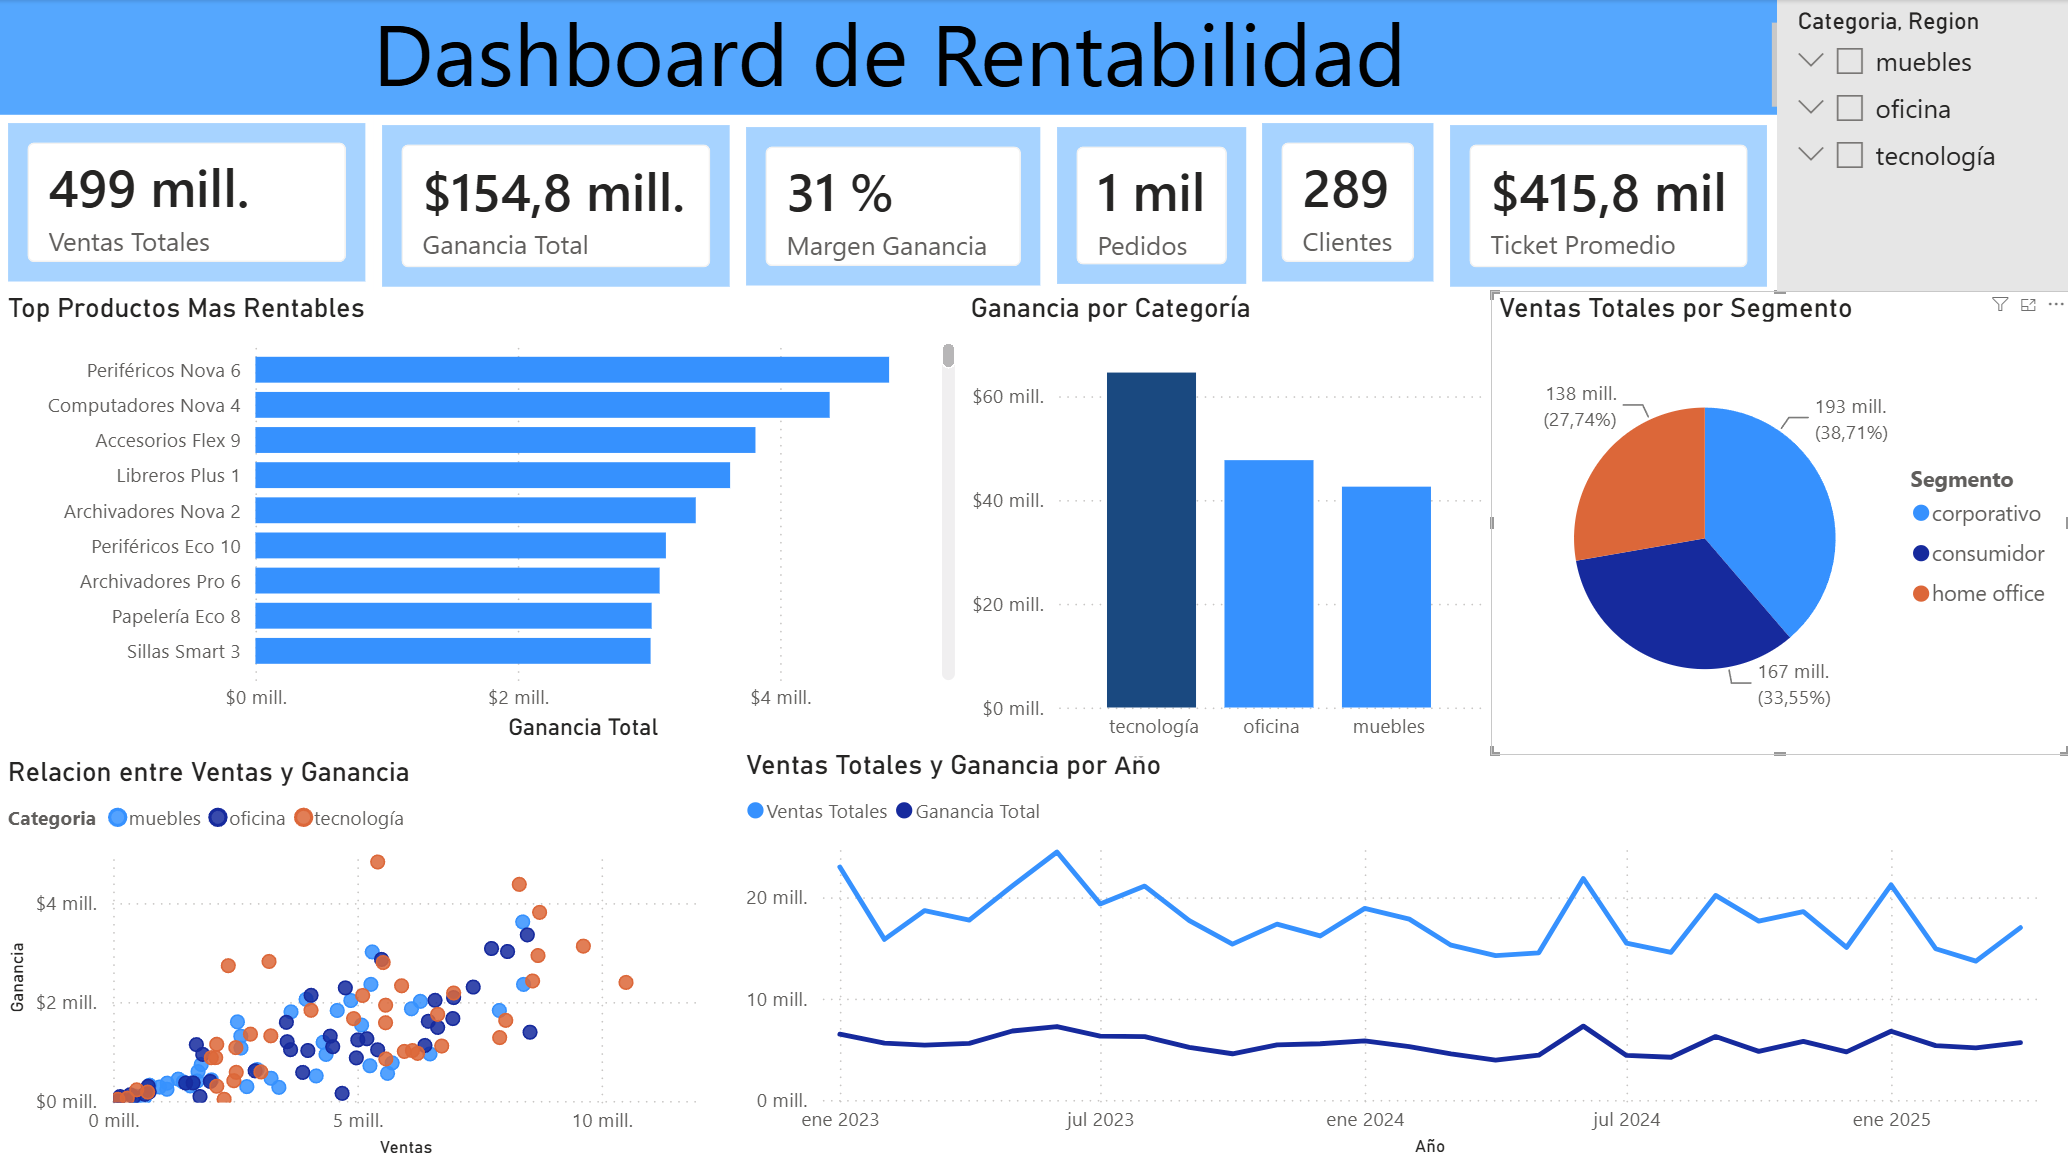

The page's visual inventory and layout, read from the dashboard file:
{"tool":"powerbi","page":{"name":"Página 1","canvas":[1280,720],"ordinal":0},"visuals":[{"type":"textbox","box":[0,0,1108.7,71],"z":0},{"type":"cardVisual","fields":{"Data":["DataSet_Limpio.VentasTotales"]},"box":[0,71,231.3,108.9],"z":1000},{"type":"cardVisual","fields":{"Data":["DataSet_Limpio.GananciaTotal"]},"box":[231.3,72.2,225.2,110.1],"z":2000},{"type":"cardVisual","fields":{"Data":["DataSet_Limpio.MargenPromedio"]},"box":[456.4,73.4,192.1,108.9],"z":3000},{"type":"cardVisual","fields":{"Data":["DataSet_Limpio.Pedidos"]},"box":[648.6,73.4,127.3,107.7],"z":4000},{"type":"cardVisual","fields":{"Data":["DataSet_Limpio.Clientes"]},"box":[775.8,71,116.3,108.9],"z":5000},{"type":"cardVisual","fields":{"Data":["DataSet_Limpio.TicketPromedio"]},"box":[892.1,72.2,206.8,110.1],"z":6000},{"type":"lineChart","title":"Ventas Totales y Ganancia por Año","fields":{"Y":["DataSet_Limpio.VentasTotales","DataSet_Limpio.GananciaTotal"],"Category":["DataSet_Limpio.Fecha_Pedido.Variación.Jerarquía de fechas.Año","DataSet_Limpio.Fecha_Pedido.Variación.Jerarquía de fechas.Mes"]},"box":[595.9,454,684.1,265.5],"z":7000},{"type":"columnChart","title":"Ganancia por Categoría","fields":{"Category":["DataSet_Limpio.Categoria"],"Y":["DataSet_Limpio.GananciaTotal"]},"box":[953.3,179.9,326.7,274.1],"z":8000},{"type":"pieChart","fields":{"Category":["DataSet_Limpio.Segmento"],"Y":["DataSet_Limpio.VentasTotales"]},"box":[0,181.1,489.5,252.1],"z":9000},{"type":"clusteredBarChart","title":"Top Productos Mas Rentables","fields":{"Category":["DataSet_Limpio.Nombre_Producto"],"Y":["DataSet_Limpio.GananciaTotal"]},"box":[0,433.2,595.9,286.3],"z":10000},{"type":"scatterChart","title":"Relacion entre Ventas y Ganancia","fields":{"Category":["DataSet_Limpio.Nombre_Producto"],"X":["Sum(DataSet_Limpio.Ventas)"],"Y":["Sum(DataSet_Limpio.Ganancia)"],"Series":["DataSet_Limpio.Categoria"]},"box":[554.3,179.9,398.9,253.3],"z":11000},{"type":"slicer","fields":{"Values":["DataSet_Limpio.Categoria","DataSet_Limpio.Region"]},"box":[1098.9,0,181.1,179.9],"z":11001}]}

Visuals, with their boxes in screenshot pixels (x1, y1, x2, y2), scaled from the page's 1280x720 canvas onto the 2068x1160 screenshot:
textbox: Rect(0, 0, 1791, 114)
cardVisual - DataSet_Limpio.VentasTotales: Rect(0, 114, 374, 290)
cardVisual - DataSet_Limpio.GananciaTotal: Rect(374, 116, 738, 294)
cardVisual - DataSet_Limpio.MargenPromedio: Rect(737, 118, 1048, 294)
cardVisual - DataSet_Limpio.Pedidos: Rect(1048, 118, 1254, 292)
cardVisual - DataSet_Limpio.Clientes: Rect(1253, 114, 1441, 290)
cardVisual - DataSet_Limpio.TicketPromedio: Rect(1441, 116, 1775, 294)
"Ventas Totales y Ganancia por Año" lineChart: Rect(963, 731, 2067, 1159)
"Ganancia por Categoría" columnChart: Rect(1540, 290, 2067, 731)
pieChart - DataSet_Limpio.Segmento x DataSet_Limpio.VentasTotales: Rect(0, 292, 791, 698)
"Top Productos Mas Rentables" clusteredBarChart: Rect(0, 698, 963, 1159)
"Relacion entre Ventas y Ganancia" scatterChart: Rect(896, 290, 1540, 698)
slicer - DataSet_Limpio.Categoria x DataSet_Limpio.Region: Rect(1775, 0, 2067, 290)
